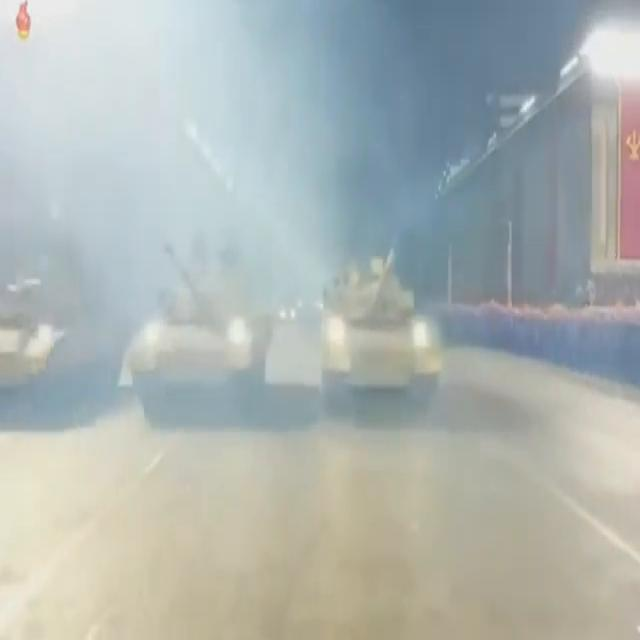north tank: (295, 231, 453, 442), (126, 226, 271, 434)
